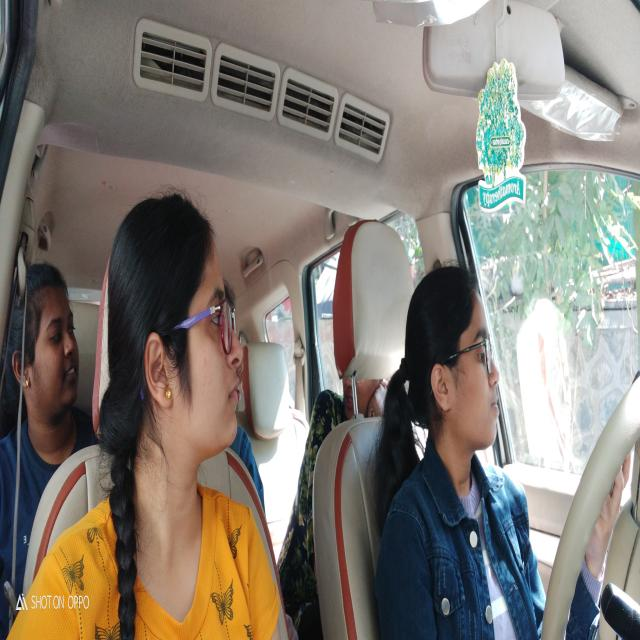LeftRight: (400, 264, 500, 458)
person: (106, 194, 246, 459), (12, 258, 80, 420)
